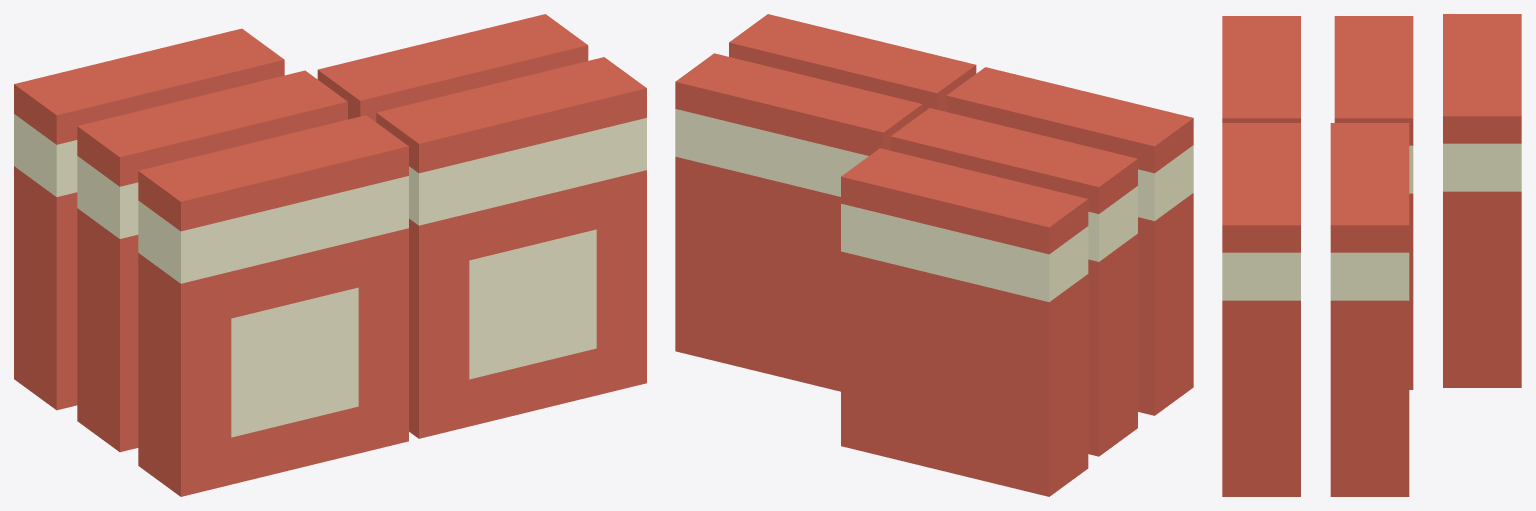
Rendered from ShelfItem2.glb.
3 views of the same model, side by side, from view 1: azimuth 30°, elevation 25°; view 2: azimuth 150°, elevation 25°; view 3: azimuth 270°, elevation 25° (orthographic). The views are drawn at different scales.
Parts seen in each view (by area): view 1: SI_Prop_ShelfItem_02; view 2: SI_Prop_ShelfItem_02; view 3: SI_Prop_ShelfItem_02.
Part boxes in pixels (x1,y1,x2,y2): SI_Prop_ShelfItem_02: (14,14,646,496); SI_Prop_ShelfItem_02: (675,14,1193,496); SI_Prop_ShelfItem_02: (1222,14,1521,496).
Size of the model in its own units: 0.0108 by 0.00646 by 0.00645.
1 material, 1 textured.
